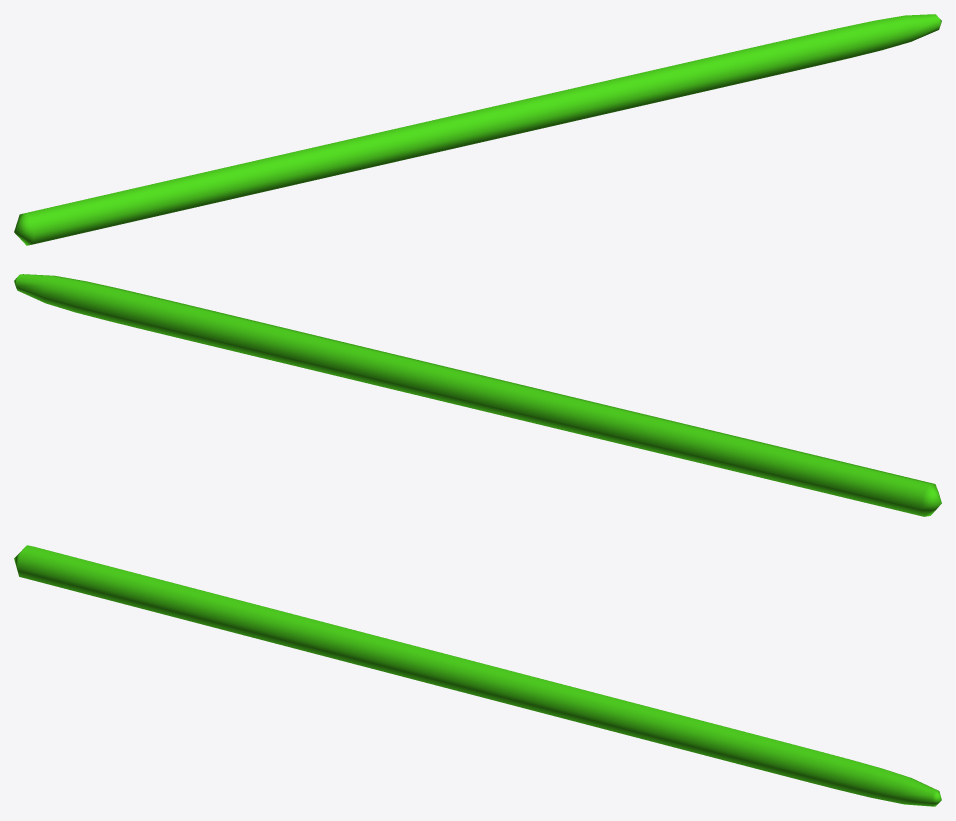
3 views of the same model, one above another, from view 1: azimuth 30°, elevation 25°; view 2: azimuth 150°, elevation 25°; view 3: azimuth 330°, elevation 25° (orthographic).
Visible parts, largest first — view 1: brush_Disco_g0_b0; view 2: brush_Disco_g0_b0; view 3: brush_Disco_g0_b0.
Boxes of the visible parts, x1=… form: brush_Disco_g0_b0: x1=14, y1=14, x2=941, y2=245; brush_Disco_g0_b0: x1=14, y1=274, x2=941, y2=516; brush_Disco_g0_b0: x1=14, y1=545, x2=941, y2=806.
Bounding box in the file's own units: 14.36 × 0.5896 × 0.6019.
